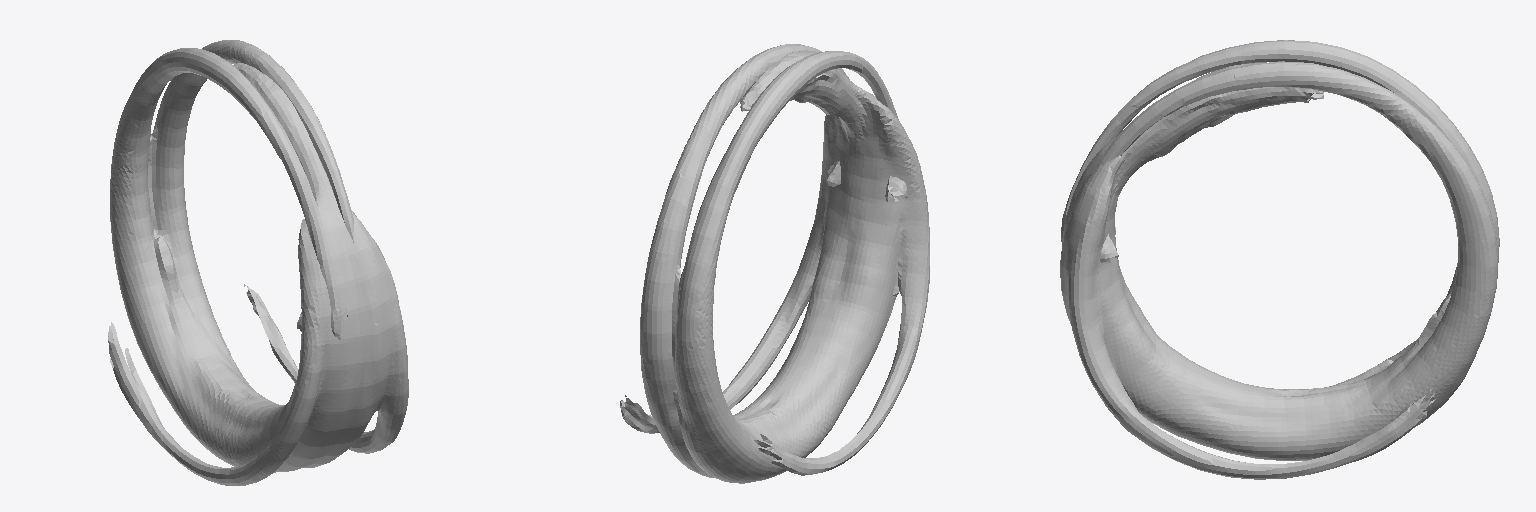
Rendered from theRings01_low.obj.
The picture shows the model from 3 angles: view 1: azimuth 30°, elevation 25°; view 2: azimuth 150°, elevation 25°; view 3: azimuth 270°, elevation 25°; orthographic projection.
Size of the model in its own units: 11.23 by 26.66 by 26.58.